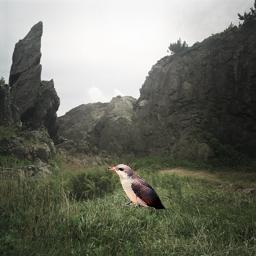Cuckoo: (107, 164, 166, 210)
